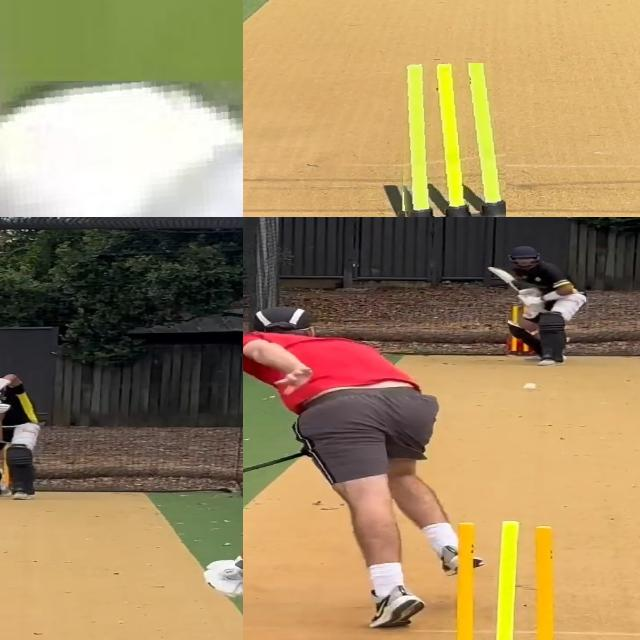Cricket ball: (0, 81, 243, 217), (520, 381, 538, 392)
Stumps: (394, 62, 506, 217), (435, 517, 575, 640)
